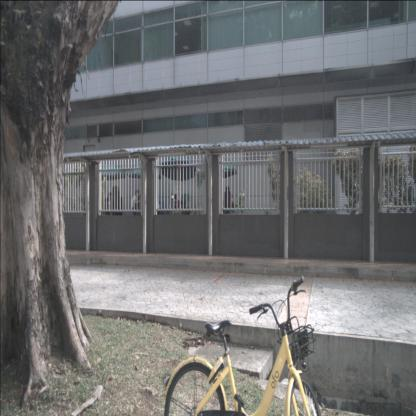human-pedestrian-adult: (114, 191, 123, 231), (104, 192, 113, 230), (223, 186, 234, 216), (131, 189, 141, 216), (172, 194, 180, 220)
vehicle-bicycle: (162, 272, 327, 416)
